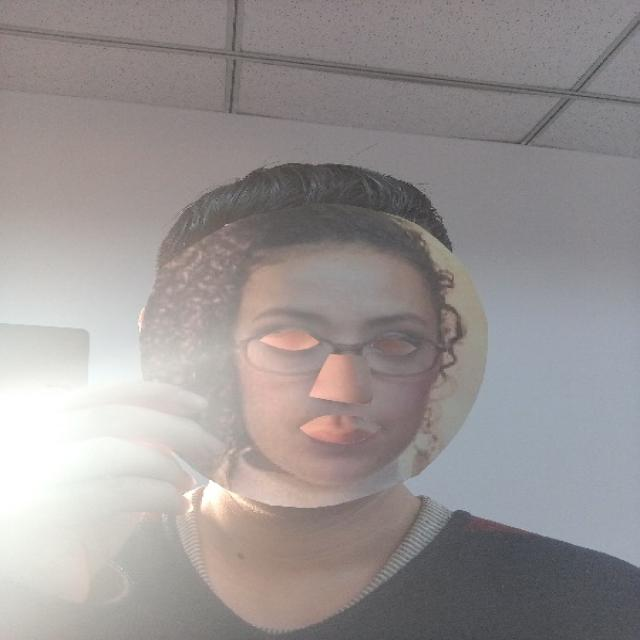mask: (132, 202, 492, 512)
